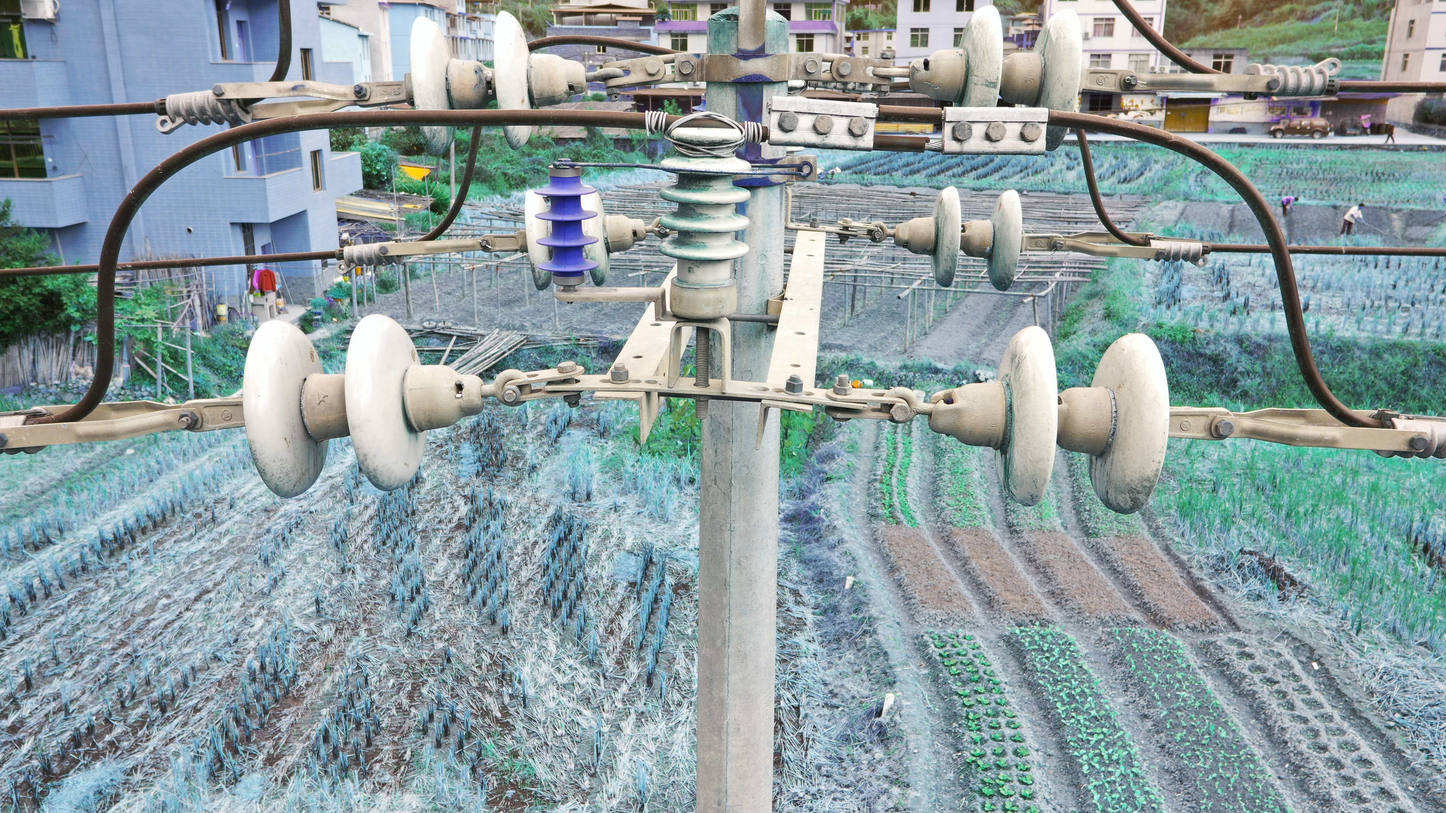severe_soiling_no_discharge_whole: (919, 315, 1170, 515), (239, 311, 485, 496), (406, 7, 600, 151), (650, 116, 755, 324), (907, 3, 1085, 111), (889, 184, 1022, 294)
